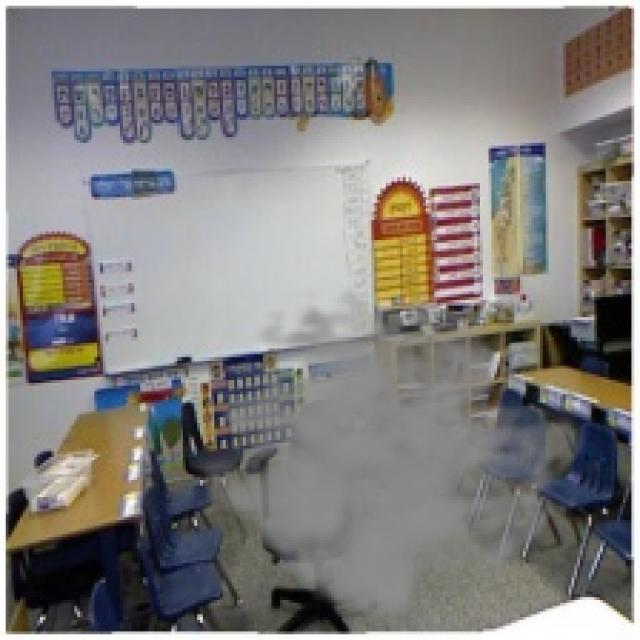Smoke: (182, 286, 594, 628)
